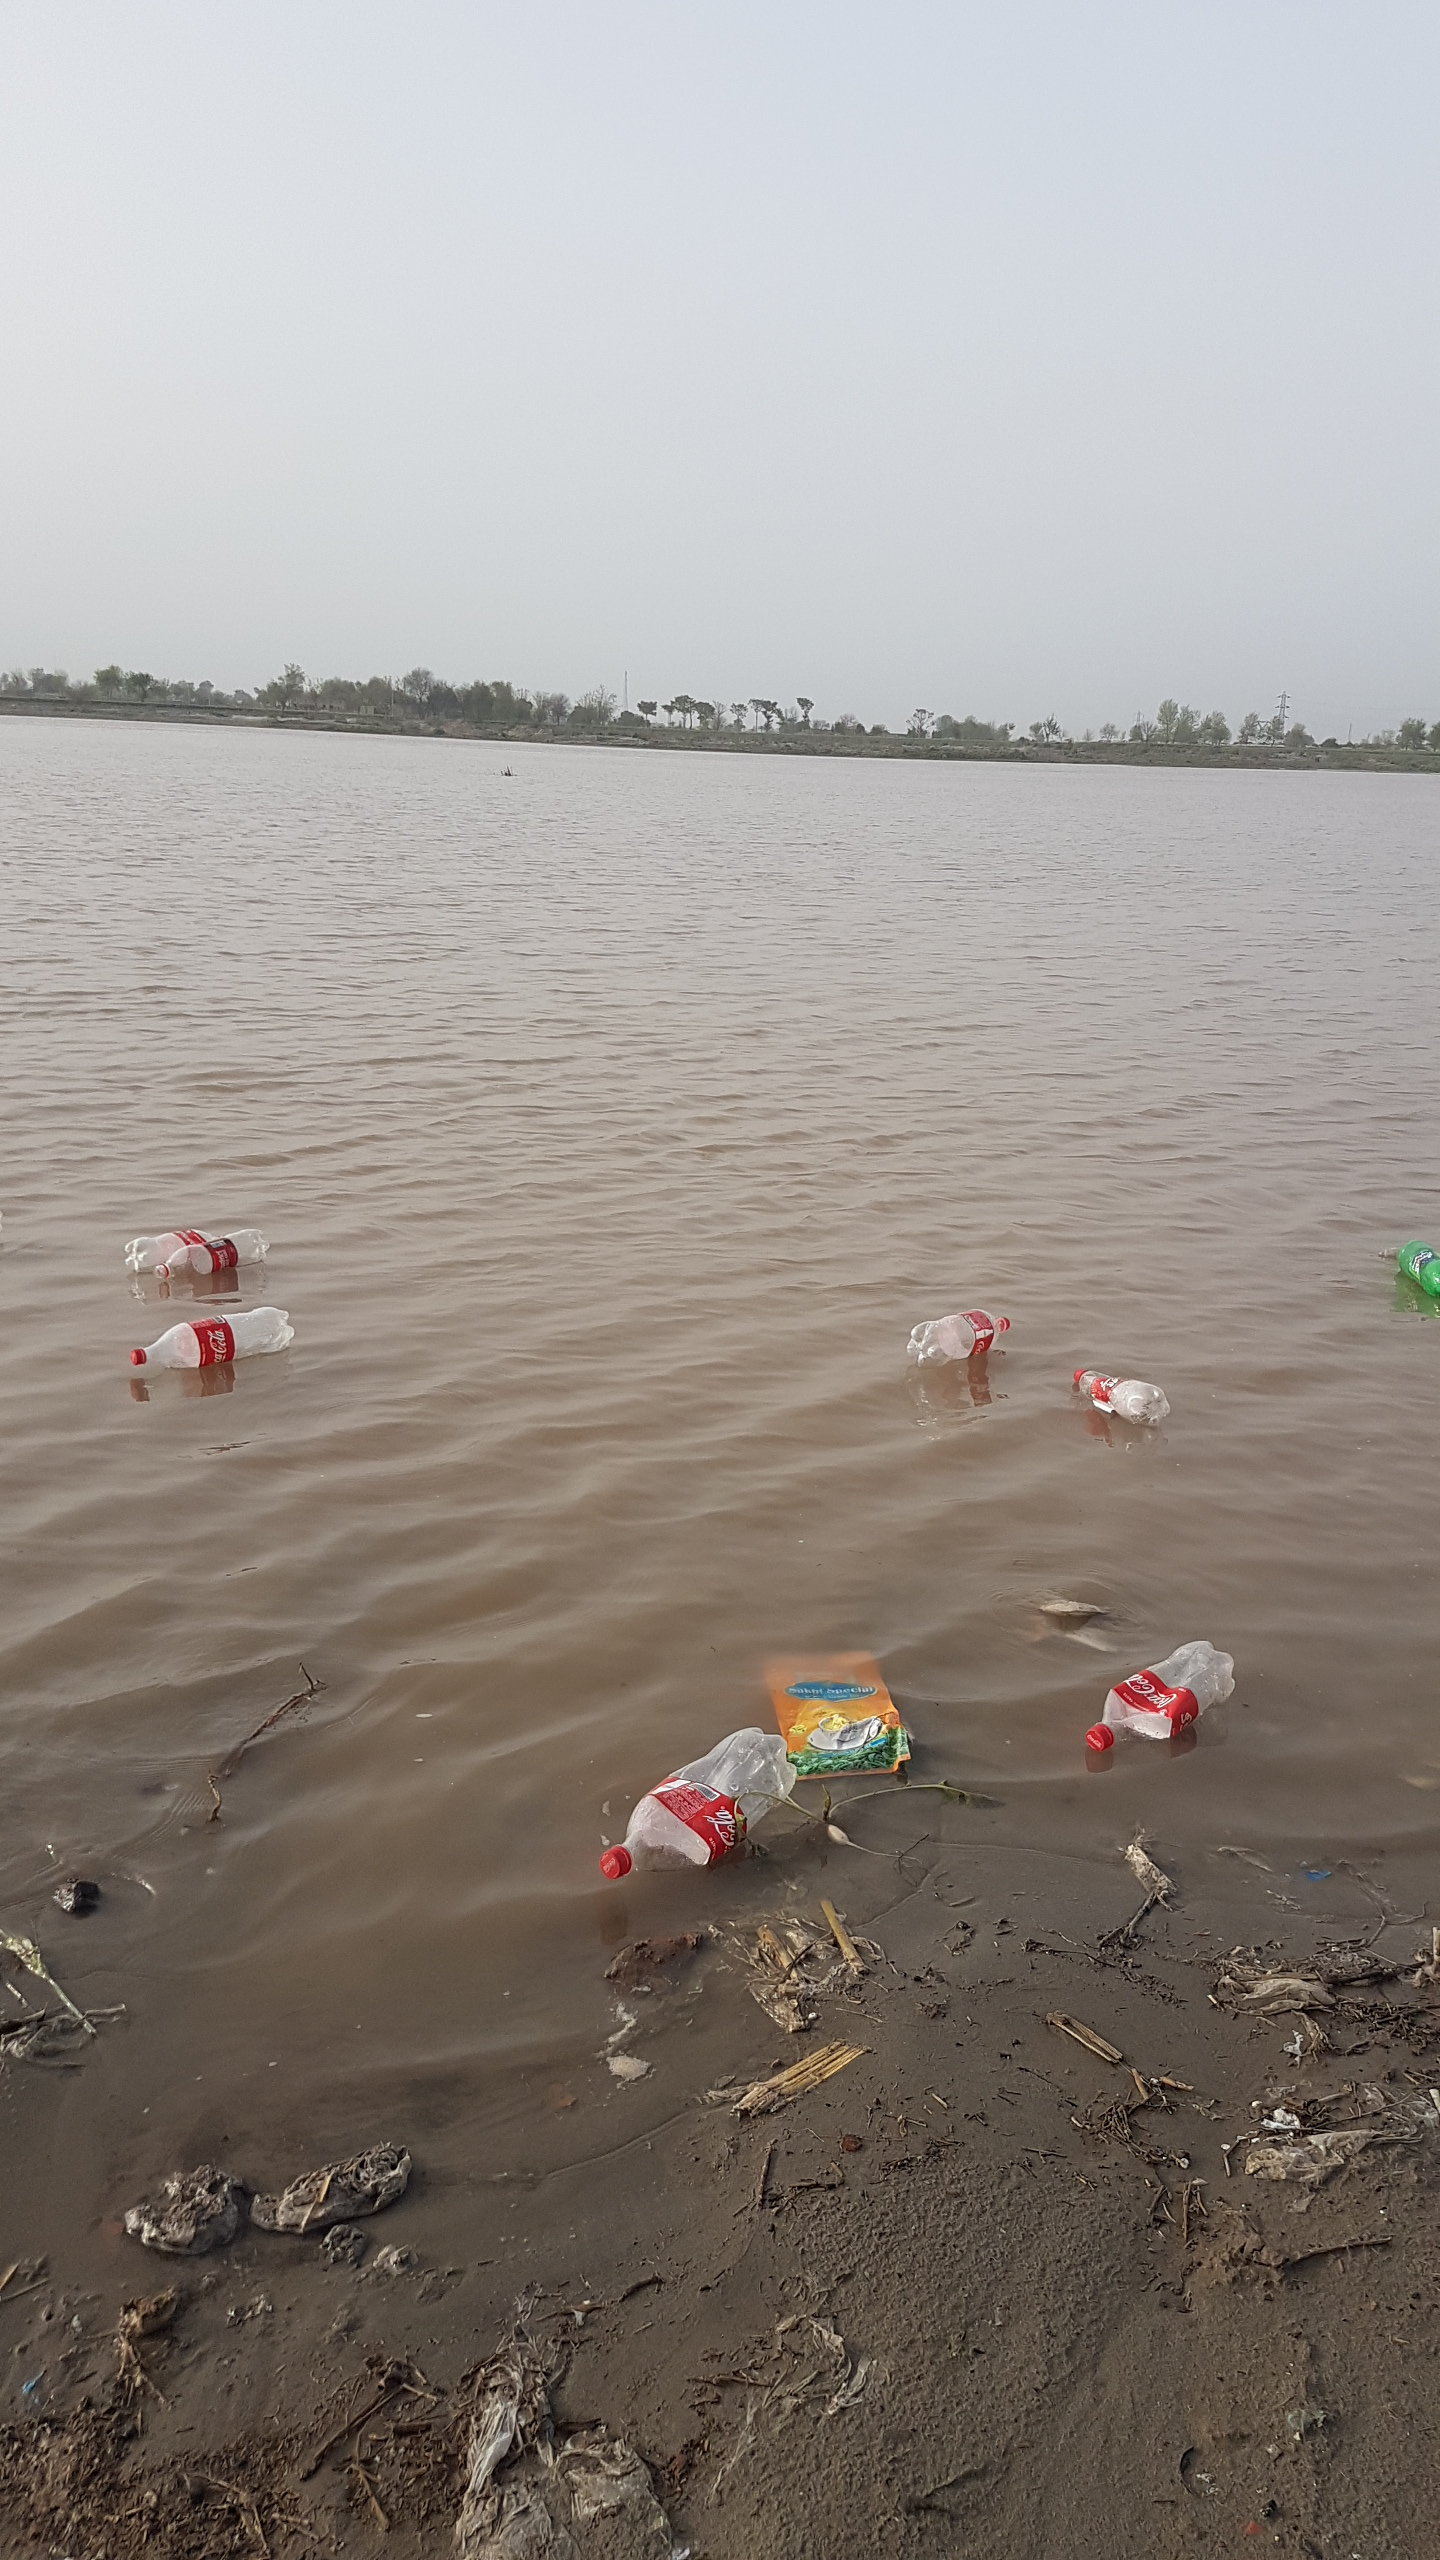Plastic Bottle: (598, 1727, 796, 1878), (1087, 1639, 1234, 1751), (130, 1306, 295, 1368), (155, 1227, 271, 1282), (905, 1308, 1009, 1366), (1074, 1368, 1169, 1426), (125, 1229, 220, 1271), (1400, 1240, 1440, 1298)
